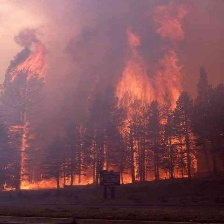fire: (2, 138, 219, 196), (113, 32, 186, 121), (17, 51, 52, 82)
smoke: (1, 2, 110, 111)
